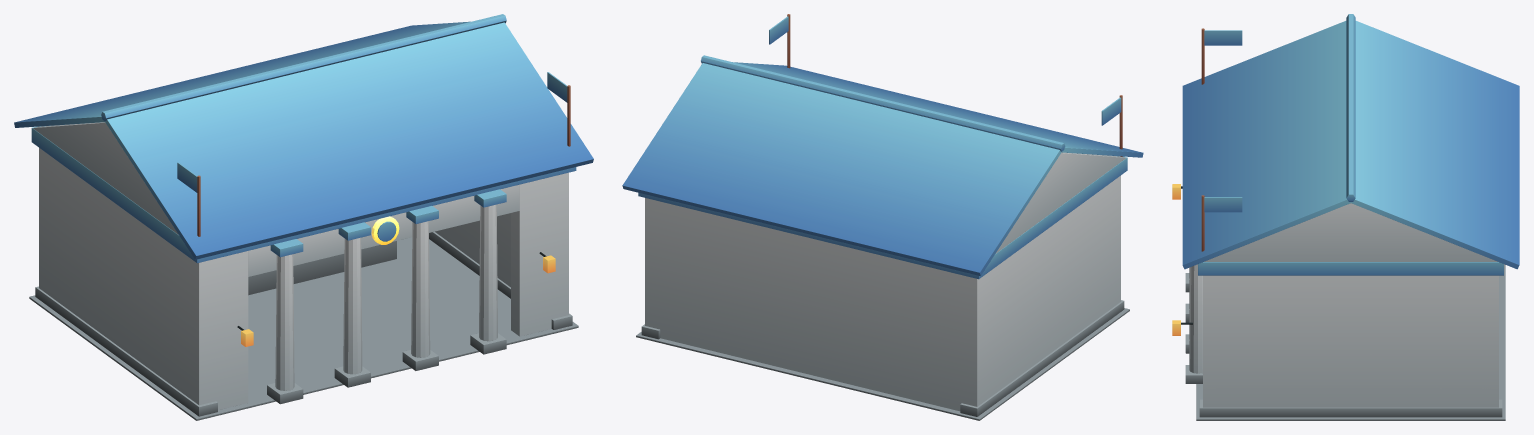
Rendered from bank_galehold.glb.
The picture shows the model from 3 angles, left to right: view 1: azimuth 30°, elevation 25°; view 2: azimuth 150°, elevation 25°; view 3: azimuth 270°, elevation 25°; orthographic projection. The views are drawn at different scales.
Visible parts, largest first — view 1: bank_galehold; view 2: bank_galehold; view 3: bank_galehold.
Boxes of the visible parts, left/top/right/bottom form: bank_galehold: left=14, top=14, right=593, bottom=420; bank_galehold: left=622, top=14, right=1143, bottom=420; bank_galehold: left=1172, top=14, right=1519, bottom=420.
Bounding box in the file's own units: 13 × 7.73 × 10.55.
Materials: 4 (4 with a texture image).
